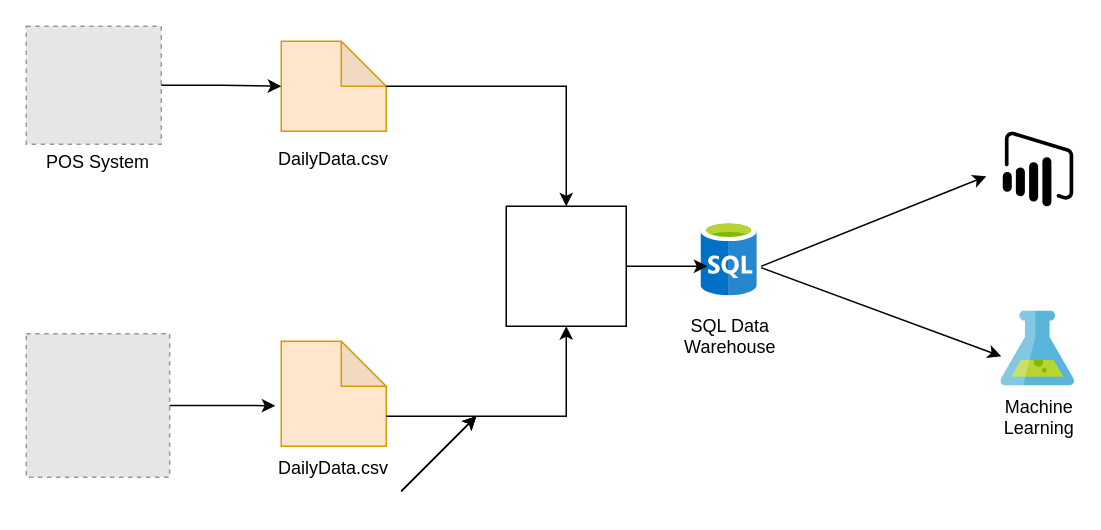
The diagram is 1101 pixels wide and 530 high, and some of its shapes have lost their labels. Grey dashed boxes stand in for pictures. The shapes that lost their labels are listed below. From the top down, each one's box as (x1, y1, x2, y2) in pixels, then its label:
(1002, 130, 1072, 206): Power BI
(505, 205, 626, 326): SSIS
